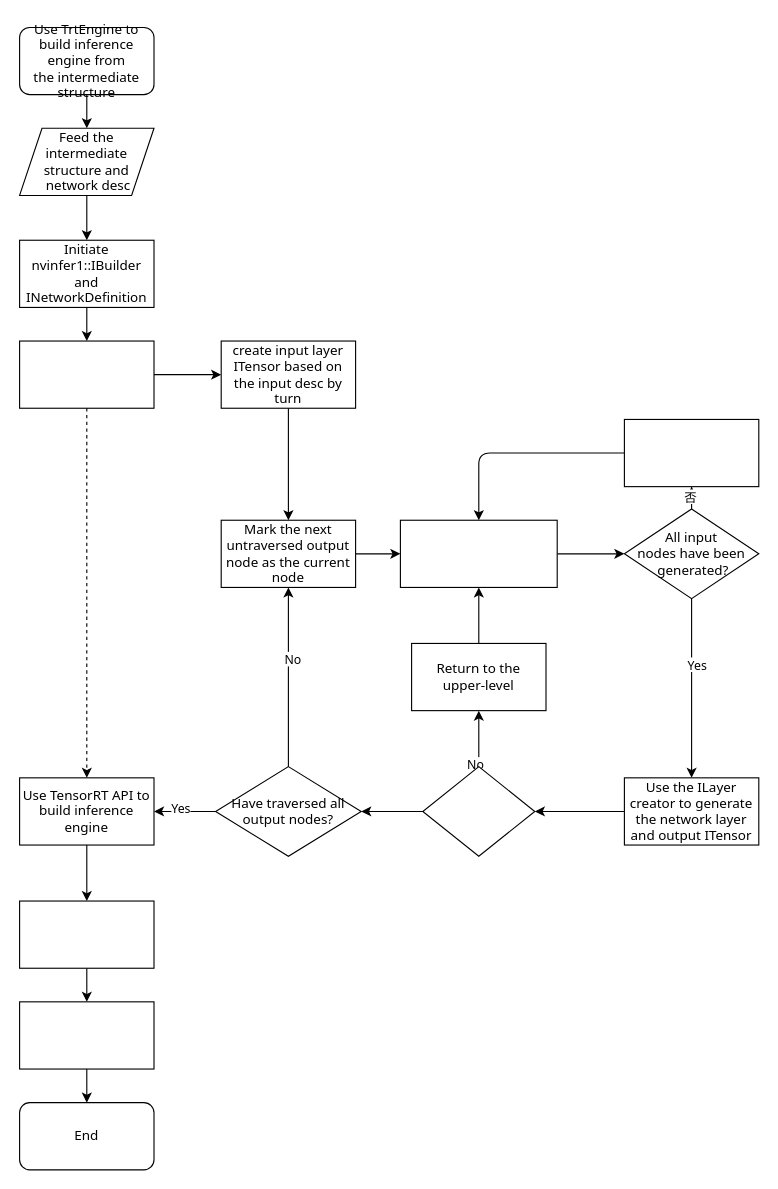
The diagram is 778 pixels wide and 1189 high, and some of its shapes have lost their labels. Here are the shapes that lost their labels. From the top down, the box of each, then its label:
(18, 340, 154, 408): create TrtNetworkCreator and use it to build INetworkDefinition
(623, 418, 759, 487): Mark the next untraversed node input as the current node
(399, 519, 557, 587): Find the input nodes of this node
(422, 766, 535, 856): Is output node?
(18, 900, 154, 968): Adjust the output node order to be consistent with the tag order
(18, 1001, 154, 1069): Initialize context information
